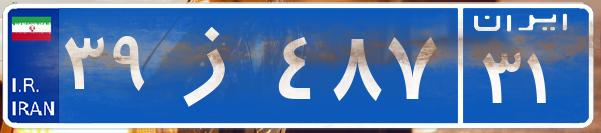1: (525, 38, 570, 115)
3: (57, 26, 110, 107), (475, 38, 525, 113)
4: (273, 28, 330, 110)
7: (385, 28, 445, 110)
8: (330, 28, 385, 110)
9: (110, 28, 158, 105)
ز: (158, 15, 273, 115)
